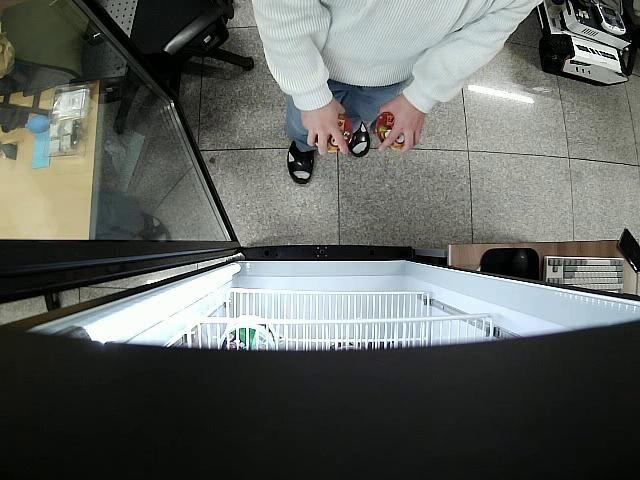06_nuguri_S: (314, 114, 355, 151), (372, 111, 404, 149)
